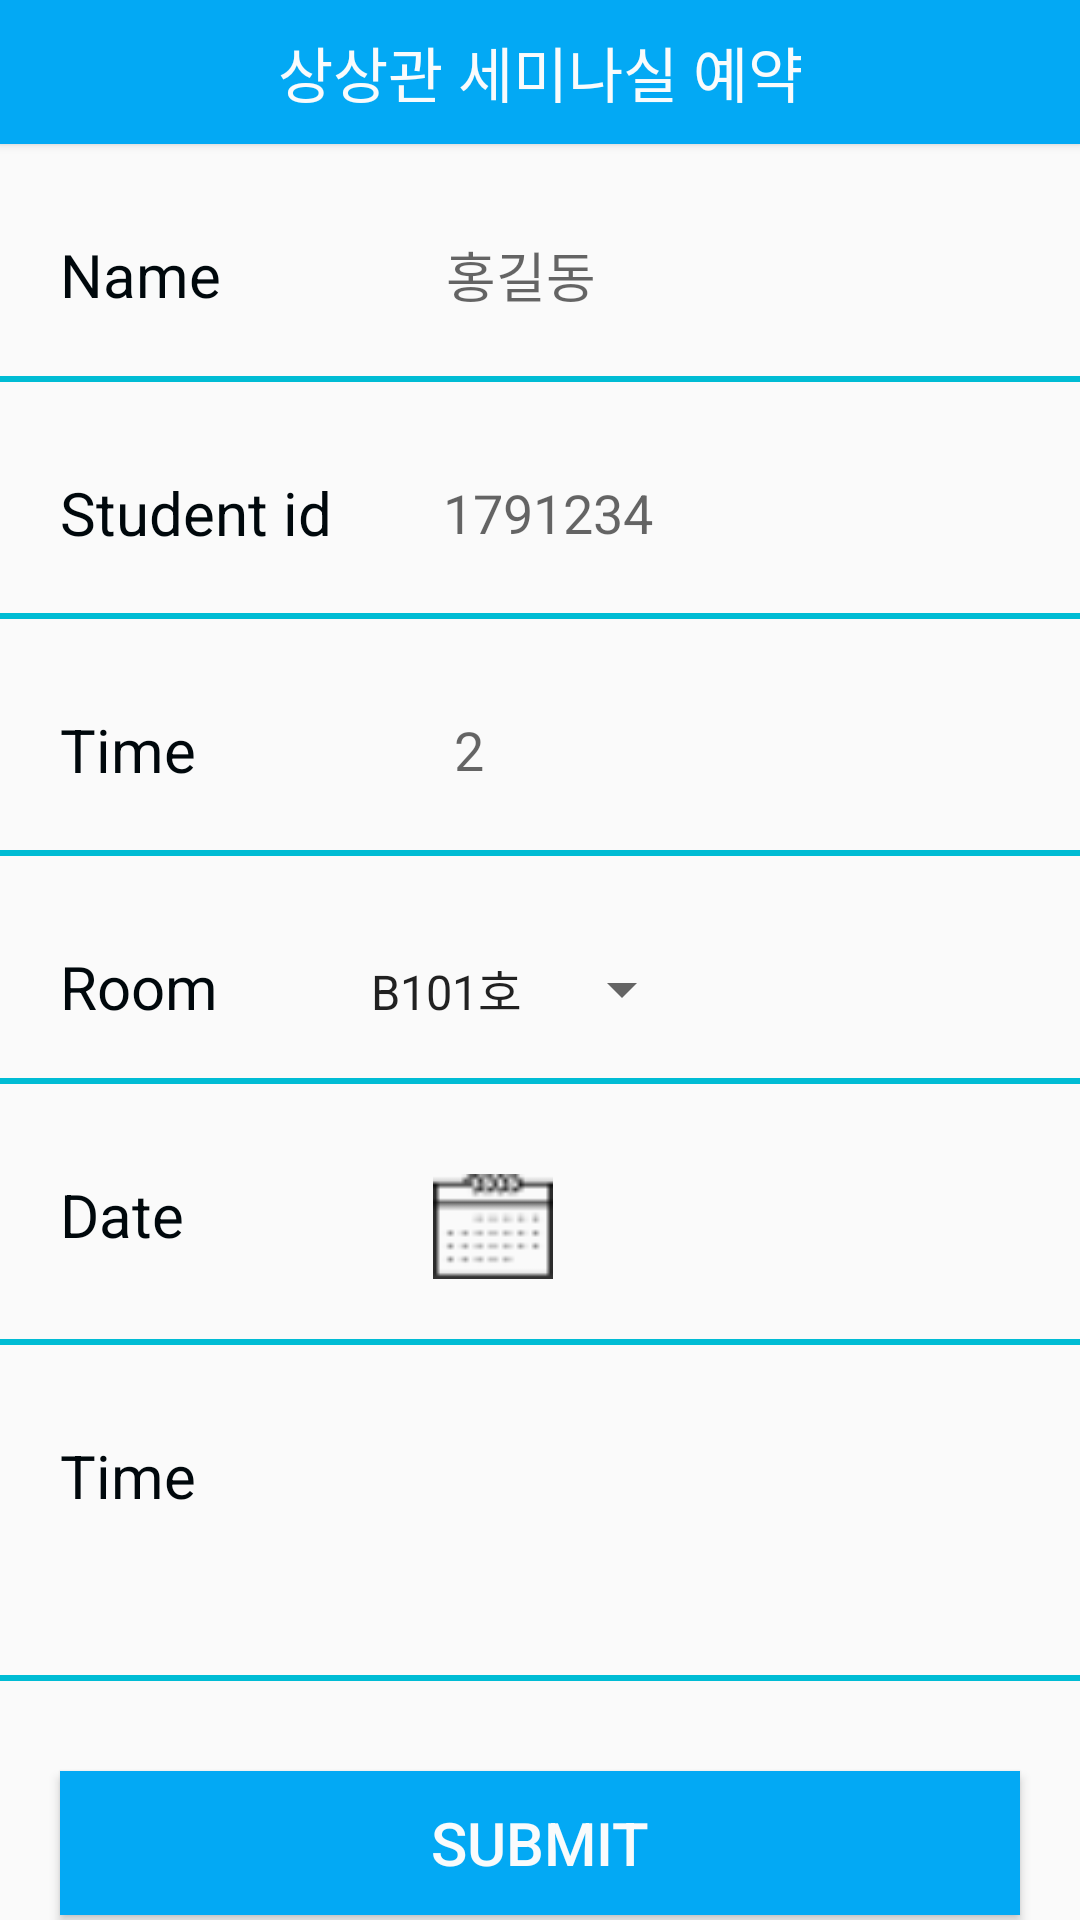

Locate icon controls on the screen. Image size 1080px x 1920px, boxes as (x1, y1, x2, y2).
calendar: (433, 1174, 553, 1279)
